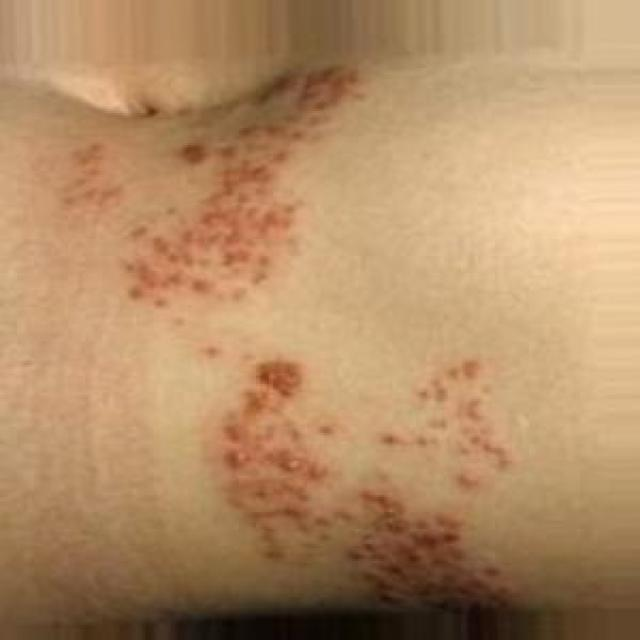Shingles: (192, 339, 510, 609), (56, 59, 371, 309)
